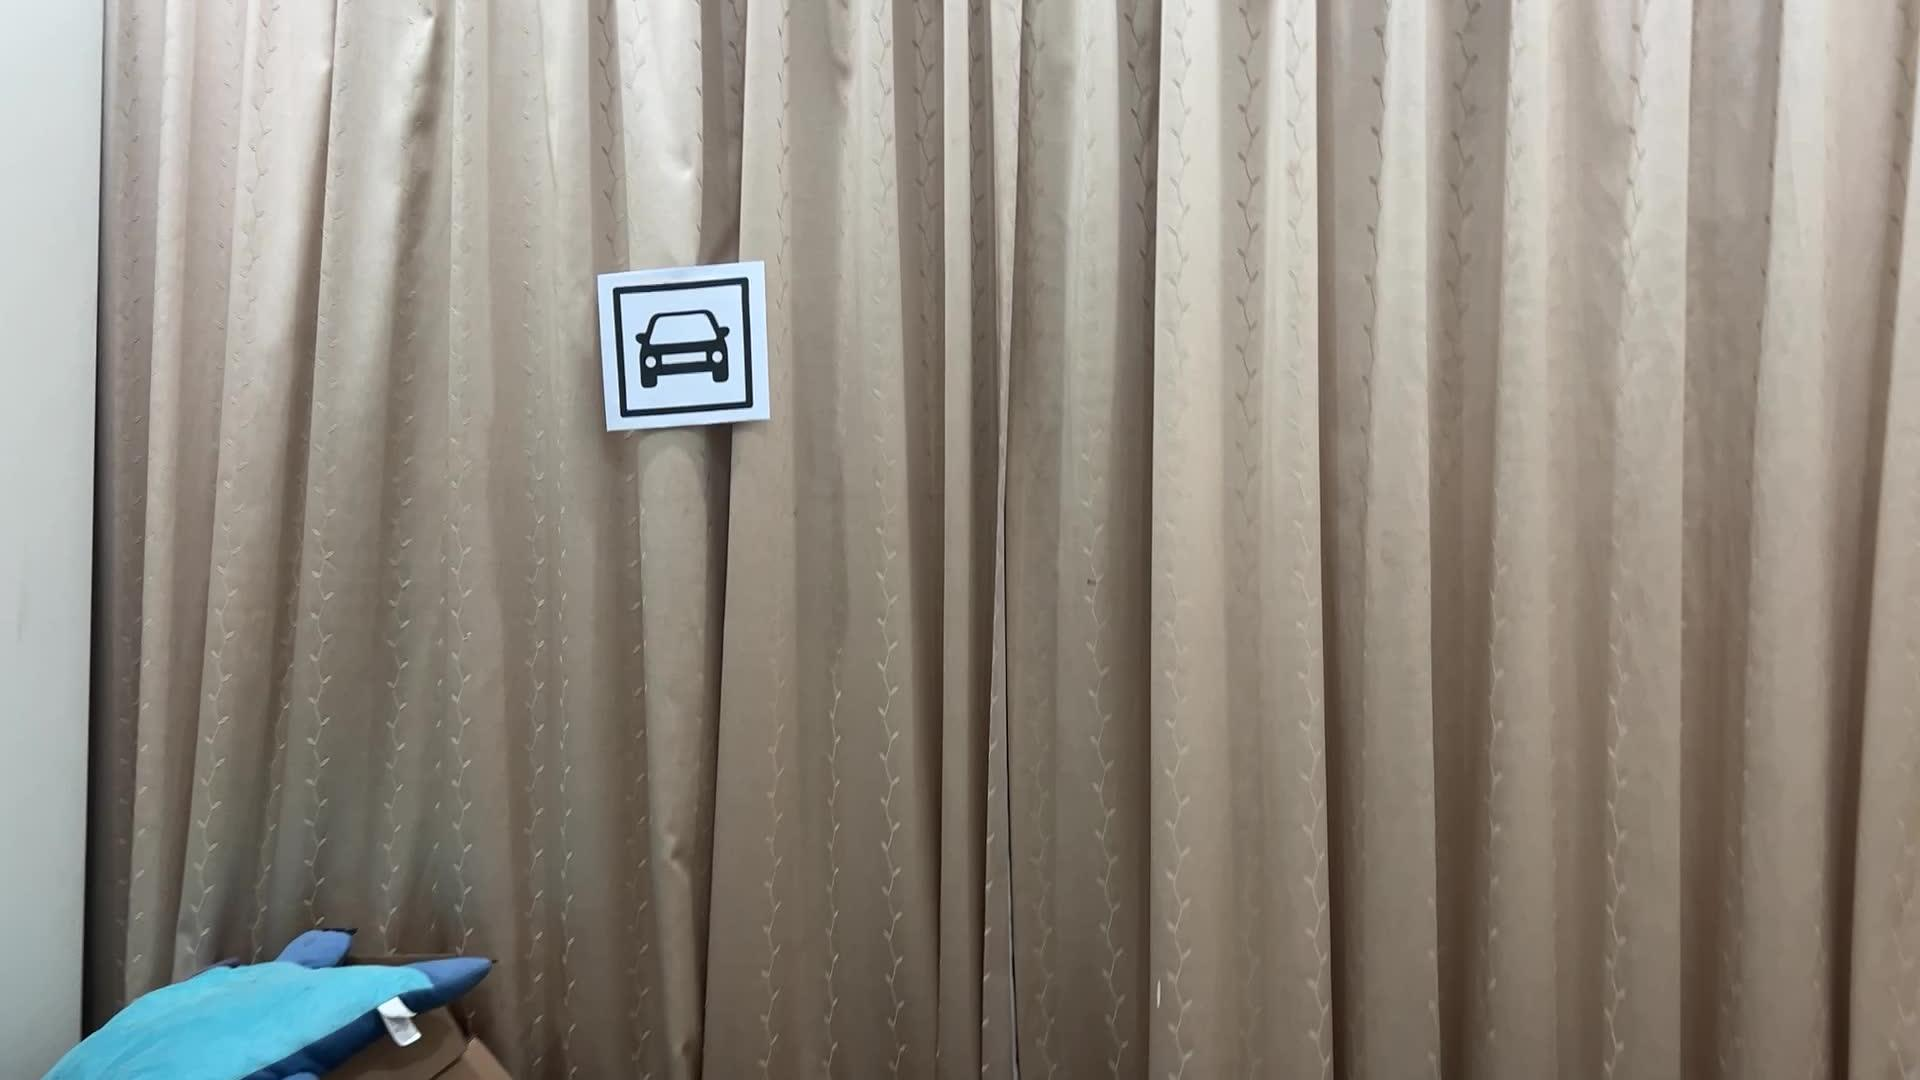car_img: (611, 274, 754, 419)
